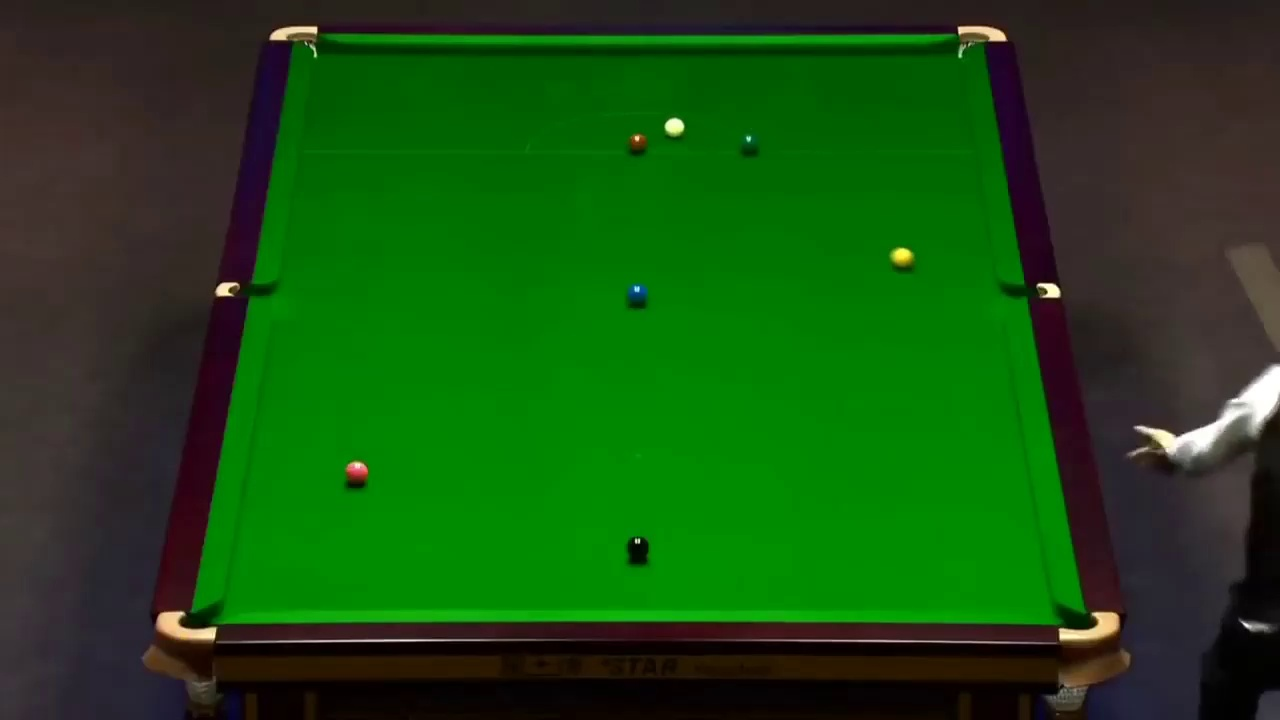ball: (341, 461, 371, 484), (663, 118, 688, 141), (736, 131, 760, 153), (625, 283, 649, 305), (626, 537, 651, 558), (628, 134, 646, 153)
